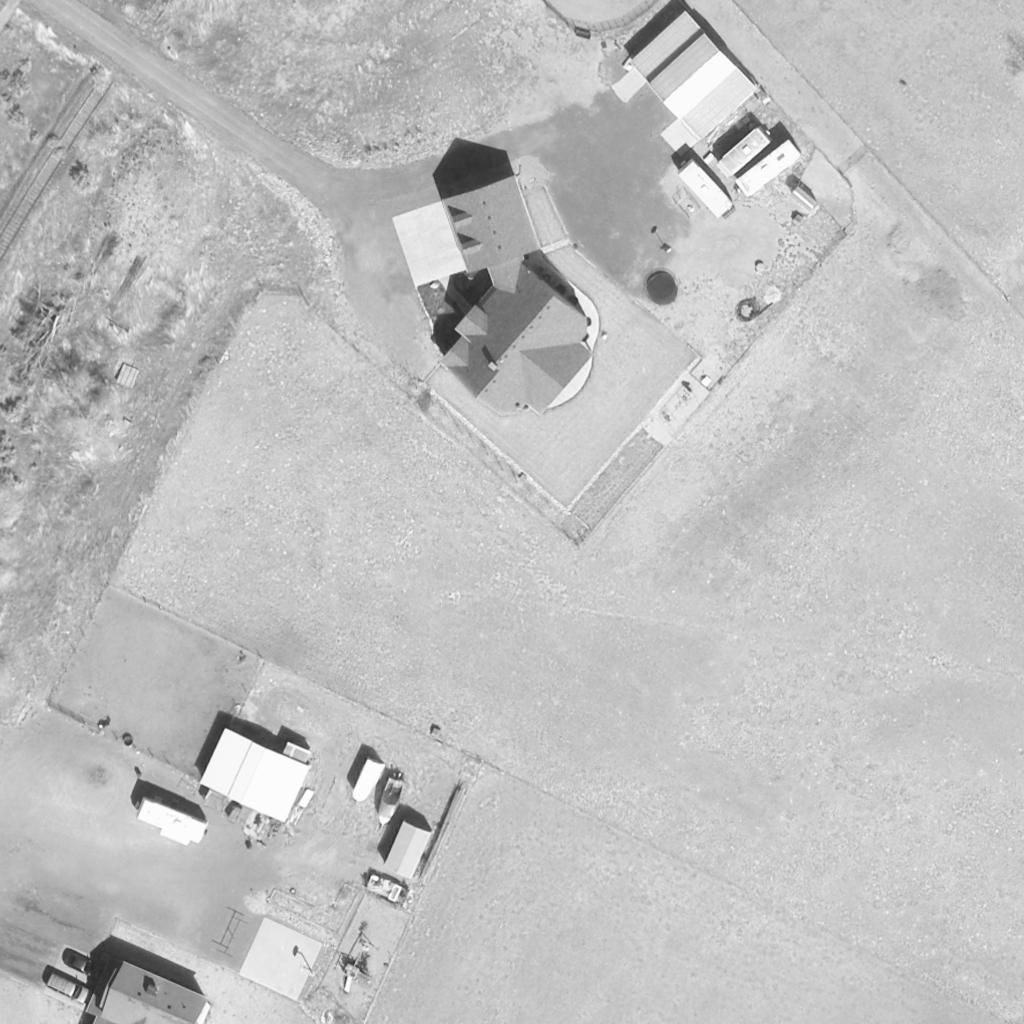vehicle: (737, 137, 803, 203), (133, 798, 209, 850), (680, 162, 734, 218), (715, 127, 771, 179), (352, 758, 388, 804), (46, 971, 94, 1003), (379, 778, 405, 828), (62, 951, 100, 977)
